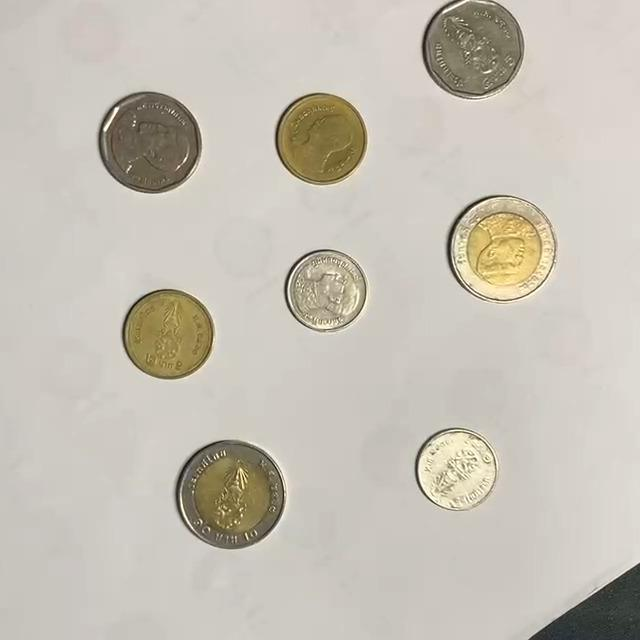1-baht: (285, 249, 371, 333), (416, 428, 502, 512)
10-baht: (176, 440, 288, 550), (450, 196, 558, 303)
2-baht: (123, 289, 216, 381), (276, 93, 369, 184)
5-baht: (100, 92, 204, 193), (422, 0, 527, 100)
